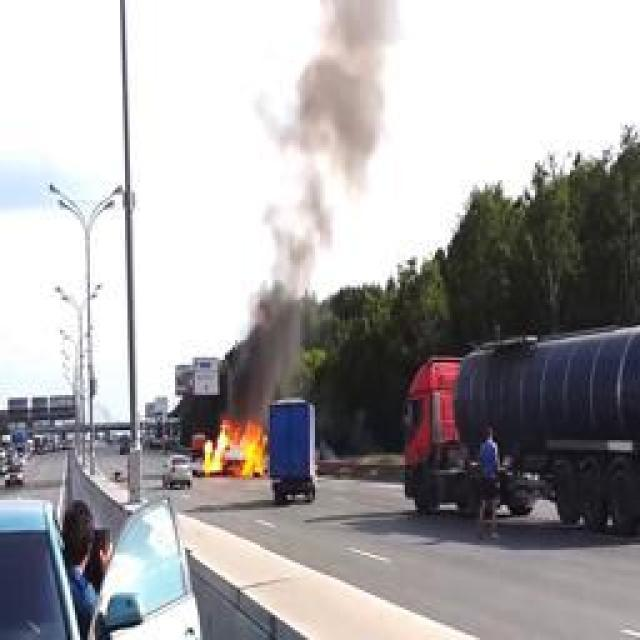Fire: (208, 420, 270, 480)
